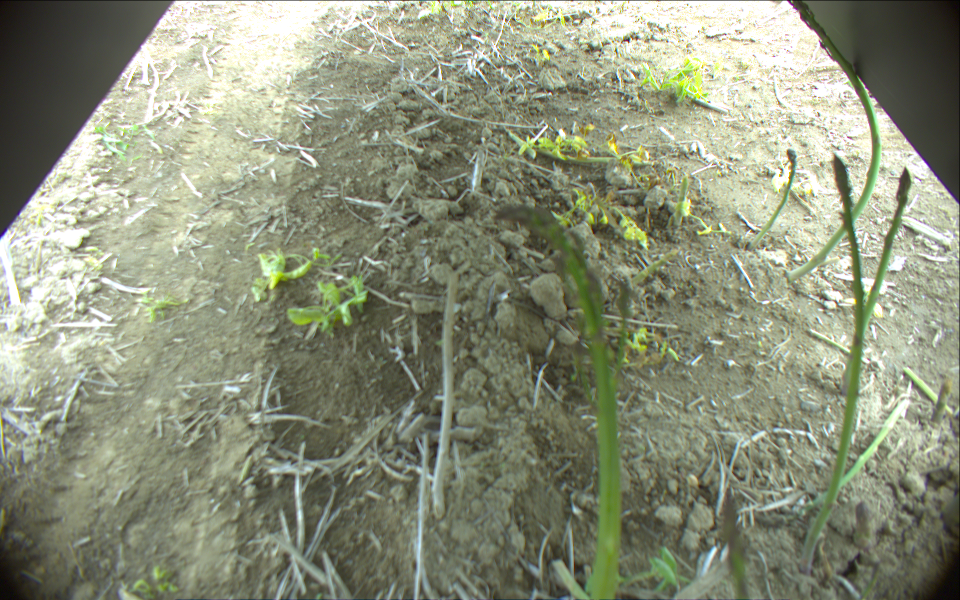aspa: (492, 203, 623, 599), (796, 157, 867, 574), (786, 1, 881, 280), (840, 166, 910, 391), (796, 395, 907, 513), (508, 130, 657, 168), (747, 148, 799, 250), (721, 488, 751, 600), (902, 365, 956, 420), (610, 283, 632, 389), (630, 248, 683, 285), (932, 381, 951, 424), (673, 175, 688, 225)
